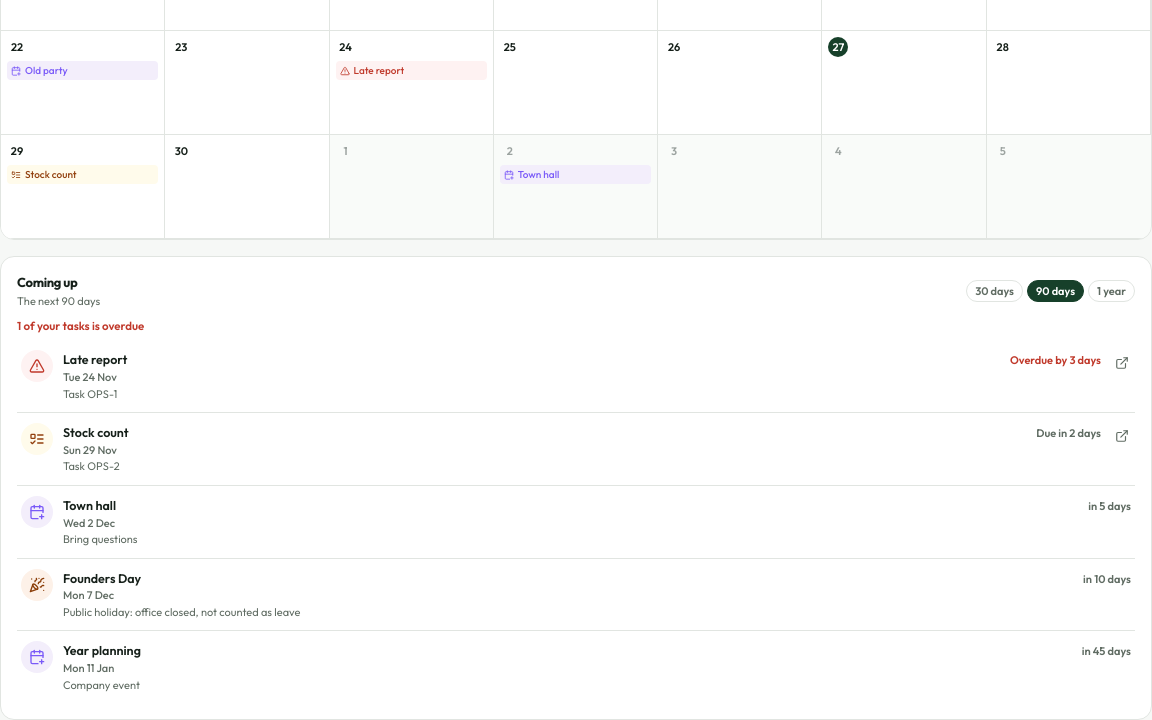
Test: Coming up › opens one of my tasks on the admin Tasks page
(page scrolled)
Click the button named "Open task Stock count" at (1122, 436), box [1109,423,1135,449]
(page scrolled)
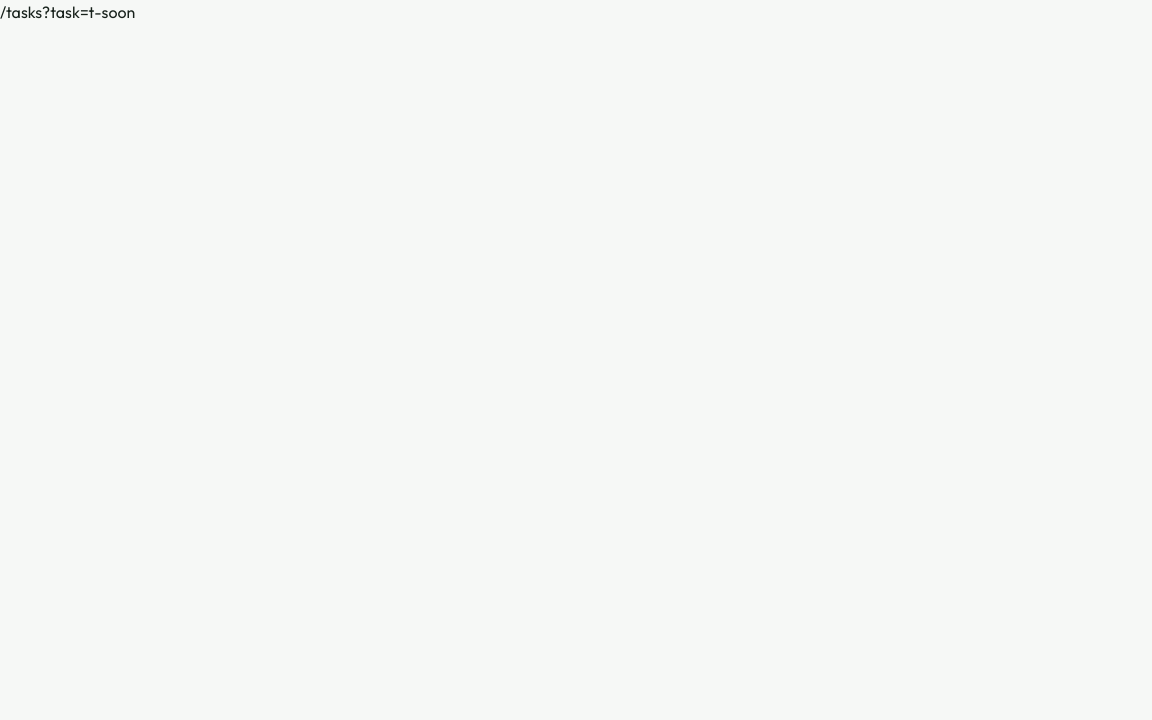
Check: the text with test id "where" reads "/tasks?task=t-soon", box [0,2,135,22]
